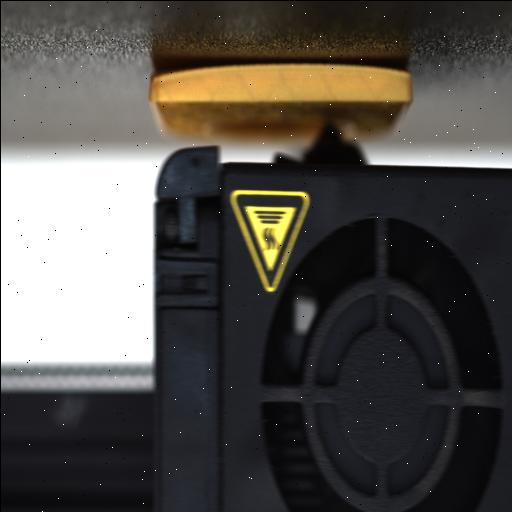warp: (145, 58, 225, 86), (340, 56, 416, 82)
